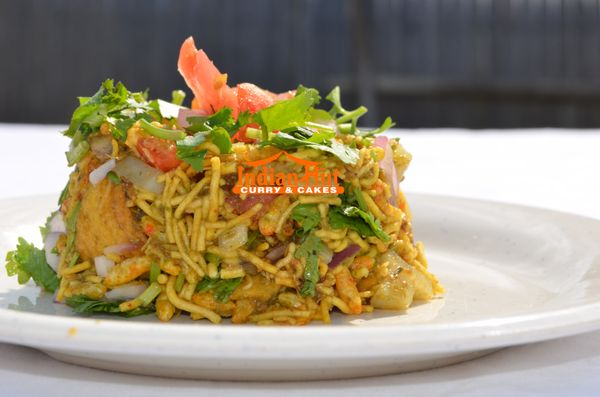curry: (9, 96, 598, 385)
